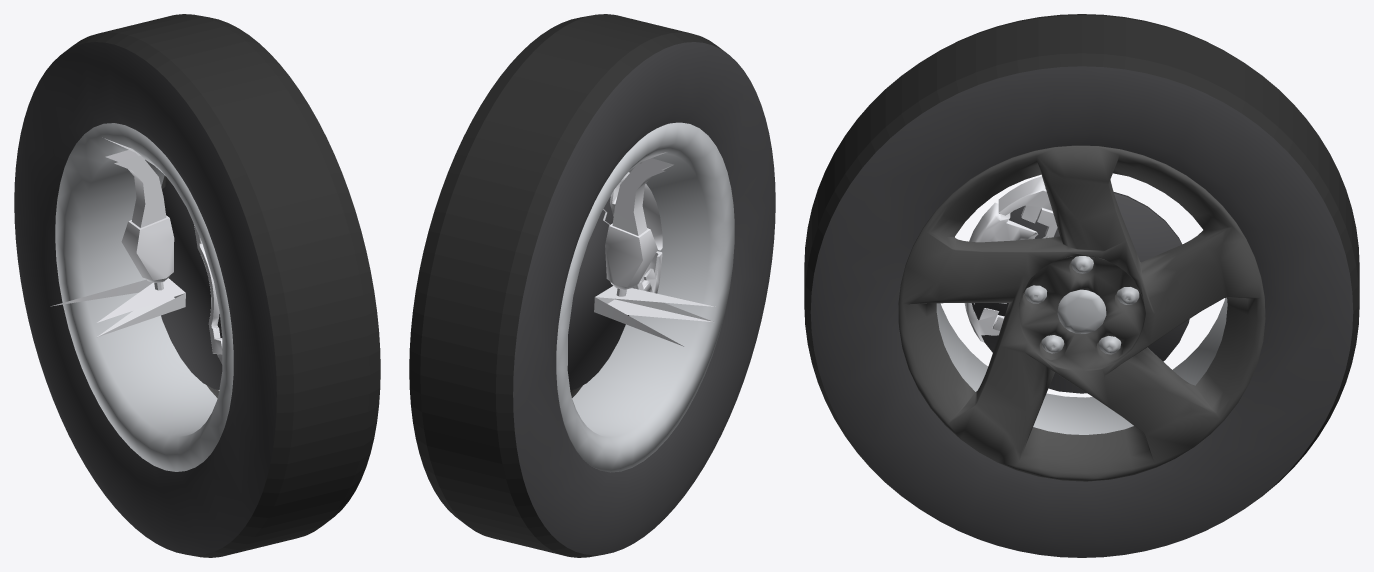
File: patrulla_wheelLR.glb
The picture shows the model from 3 angles, left to right: view 1: azimuth 30°, elevation 25°; view 2: azimuth 150°, elevation 25°; view 3: azimuth 270°, elevation 25°; orthographic projection. The views are drawn at different scales.
Parts seen in each view (by area): view 1: patrulla_wheelLR; view 2: patrulla_wheelLR; view 3: patrulla_wheelLR.
Part boxes in pixels (x1=…): patrulla_wheelLR: x1=14, y1=14, x2=380, y2=557; patrulla_wheelLR: x1=409, y1=14, x2=775, y2=557; patrulla_wheelLR: x1=804, y1=14, x2=1359, y2=557.
Bounding box in the file's own units: 0.2833 × 0.7438 × 0.7438.
5 materials, 1 textured.
